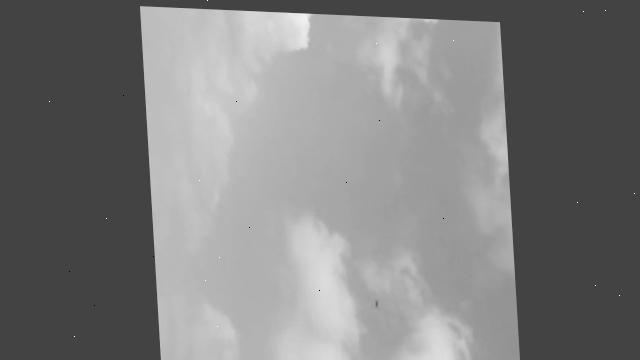drone: (368, 293, 379, 308)
